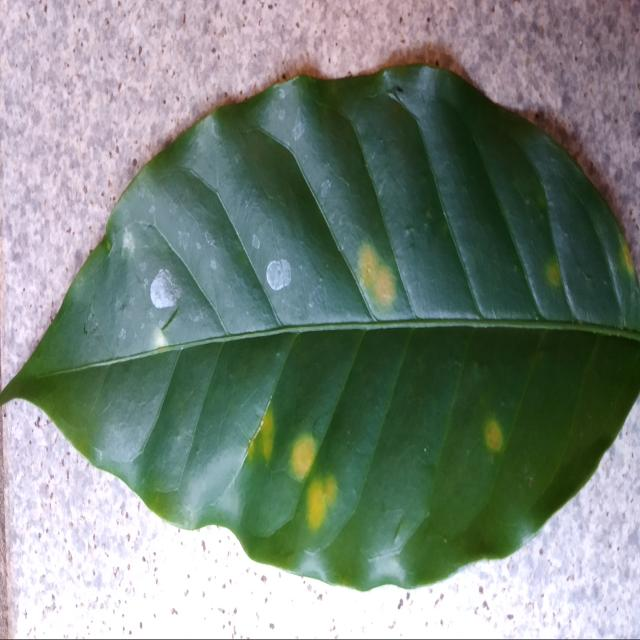Enfermedad-Roya: (1, 63, 640, 590)
